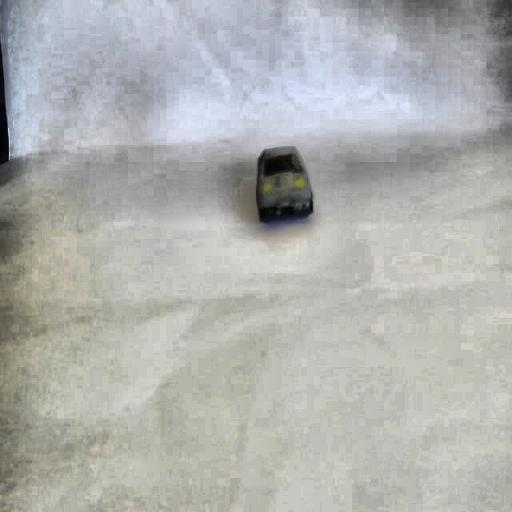normal_car: (252, 144, 316, 226)
